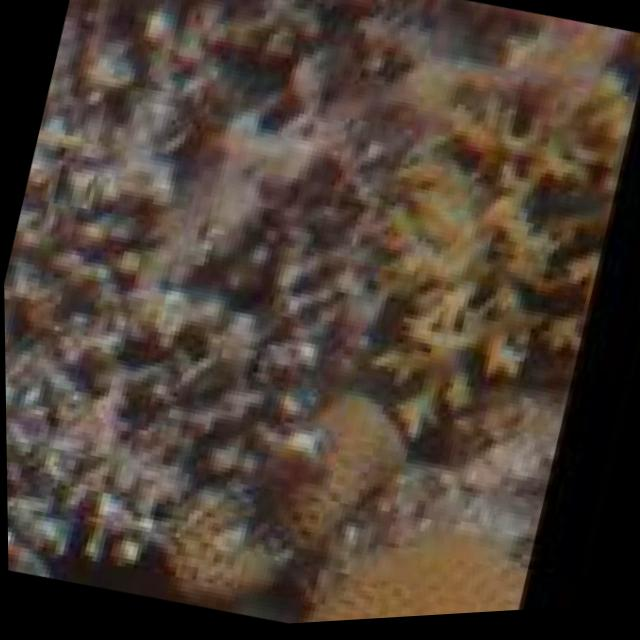Healthy Coral: (135, 343, 560, 634)
